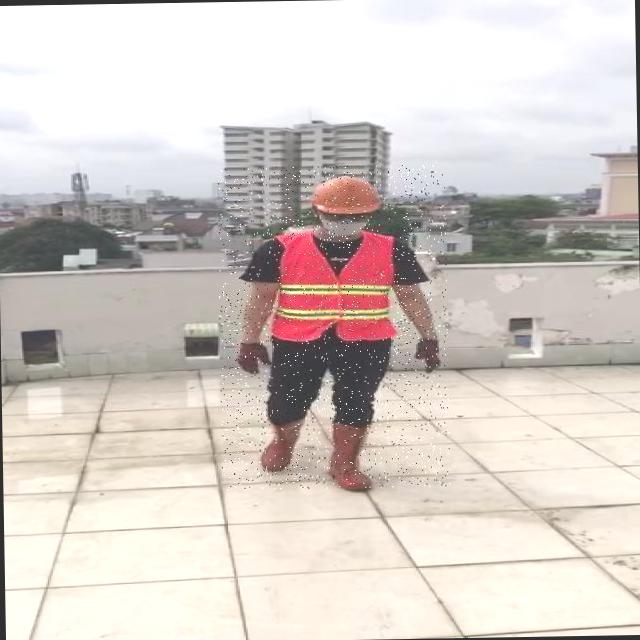boots: (331, 420, 380, 493), (245, 420, 308, 472)
gloves: (236, 338, 274, 376), (414, 336, 442, 374)
helmet: (307, 172, 385, 216)
vest: (272, 232, 399, 340)
